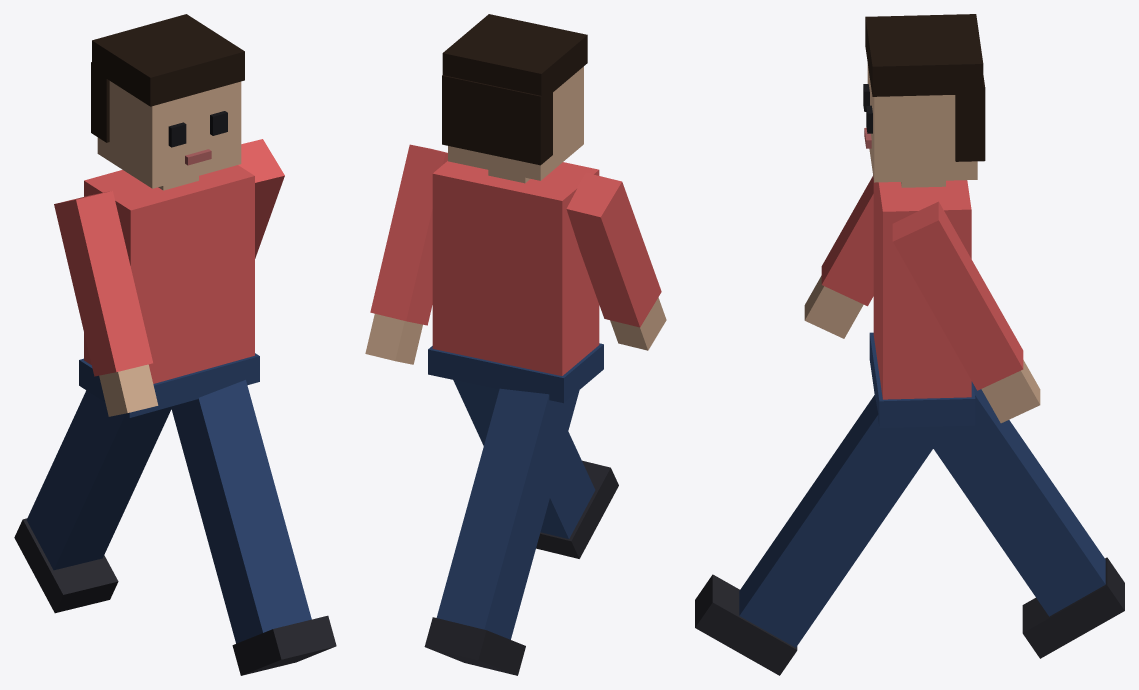
File: person_a.glb
3 renders of one model, left to right at view 1: azimuth 30°, elevation 25°; view 2: azimuth 150°, elevation 25°; view 3: azimuth 270°, elevation 25°, orthographic. The views are drawn at different scales.
Parts seen in each view (by area): view 1: gh_person_a__body, gh_person_a__leg_r, gh_person_a__leg_l, gh_person_a__arm_l, gh_person_a__arm_r; view 2: gh_person_a__body, gh_person_a__leg_l, gh_person_a__arm_l, gh_person_a__arm_r, gh_person_a__leg_r; view 3: gh_person_a__body, gh_person_a__leg_r, gh_person_a__leg_l, gh_person_a__arm_r, gh_person_a__arm_l.
Part boxes in pixels (x1,y1,x2,y2): gh_person_a__body: [79, 14, 259, 417]; gh_person_a__leg_r: [171, 380, 336, 675]; gh_person_a__leg_l: [14, 390, 172, 613]; gh_person_a__arm_l: [54, 191, 158, 416]; gh_person_a__arm_r: [238, 139, 284, 258]; gh_person_a__body: [428, 14, 603, 403]; gh_person_a__leg_l: [424, 388, 579, 675]; gh_person_a__arm_l: [566, 173, 666, 350]; gh_person_a__arm_r: [365, 144, 447, 364]; gh_person_a__leg_r: [453, 380, 618, 558]; gh_person_a__body: [863, 14, 985, 427]; gh_person_a__leg_r: [695, 395, 948, 675]; gh_person_a__leg_l: [933, 384, 1124, 658]; gh_person_a__arm_r: [892, 201, 1040, 423]; gh_person_a__arm_l: [804, 175, 873, 338].
Bounding box in the file's own units: 0.66 × 1.85 × 1.16.
